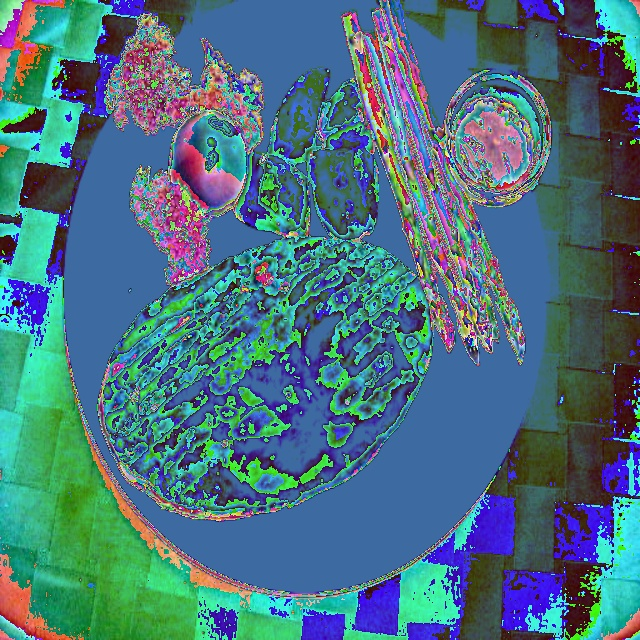background: (97, 0, 526, 519), (85, 85, 534, 193)
